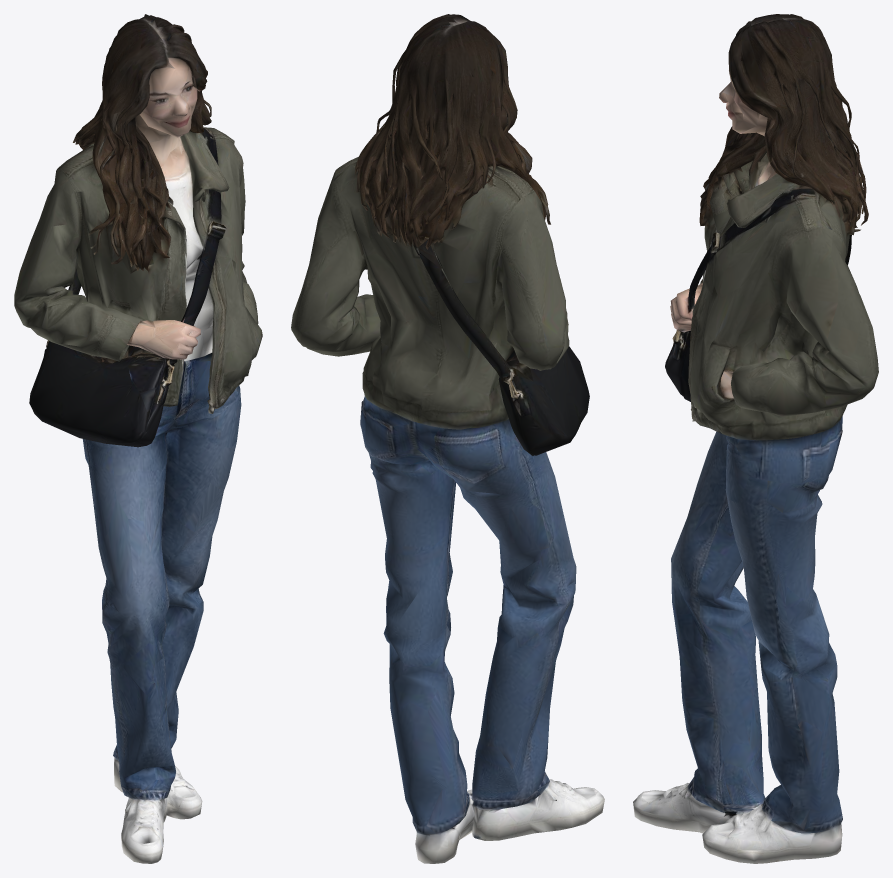
The model's file is extra-woman-1-near.glb.
The picture shows the model from 3 angles, left to right: view 1: azimuth 30°, elevation 25°; view 2: azimuth 150°, elevation 25°; view 3: azimuth 270°, elevation 25°; orthographic projection. The views are drawn at different scales.
Parts seen in each view (by area): view 1: Mesh_0; view 2: Mesh_0; view 3: Mesh_0.
Part boxes in pixels (x1,y1,x2,y2): Mesh_0: [14, 14, 262, 863]; Mesh_0: [291, 14, 604, 863]; Mesh_0: [633, 14, 878, 863].
Bounding box in the file's own units: 0.6086 × 1.9 × 0.5082.
1 material, 1 textured.
